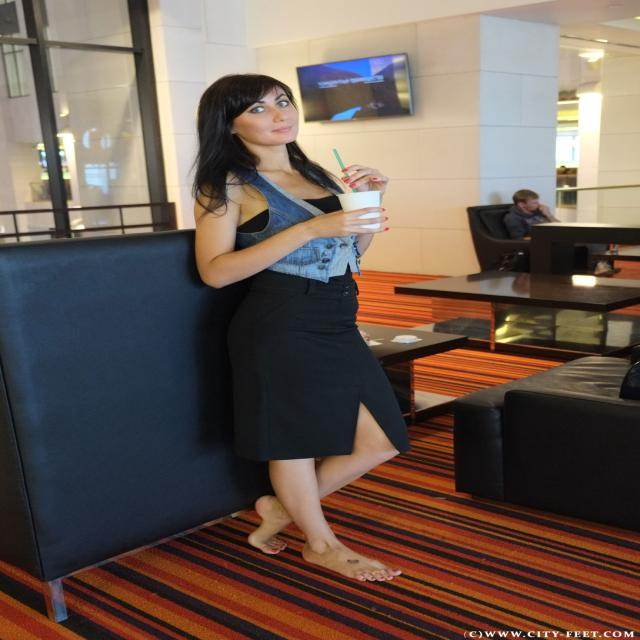Barefoots: (302, 541, 402, 581), (247, 495, 287, 554)
